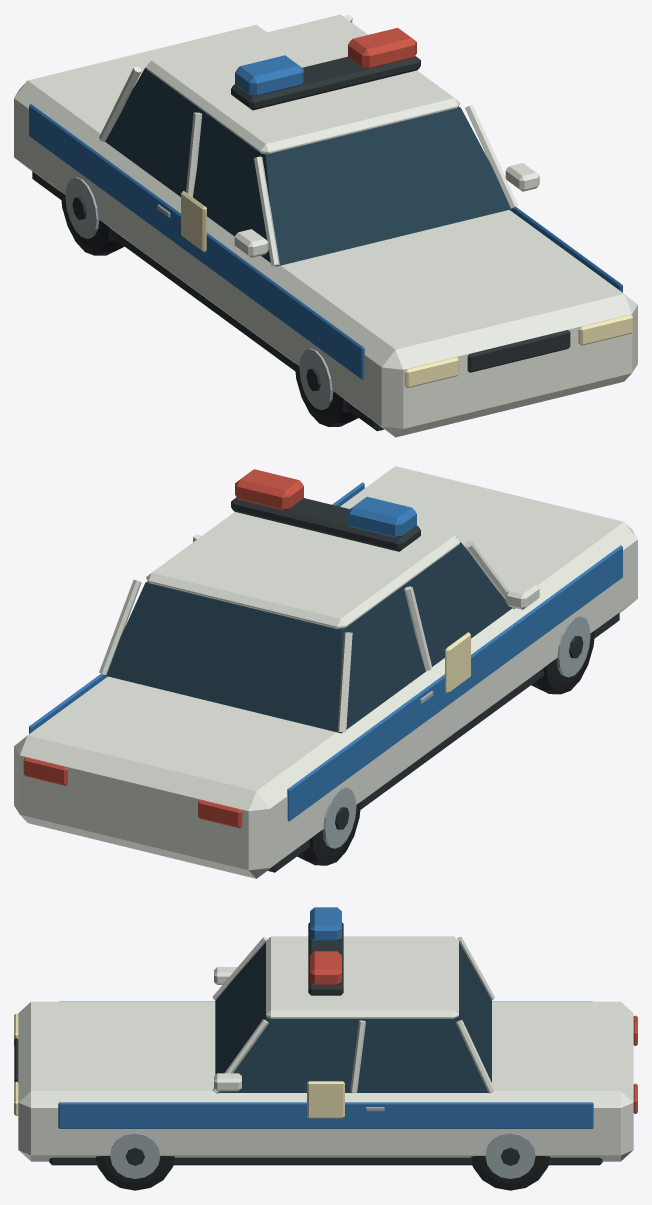
Rendered from police-car-01.glb.
3 renders of one model, top to bottom at view 1: azimuth 30°, elevation 25°; view 2: azimuth 150°, elevation 25°; view 3: azimuth 270°, elevation 25°, orthographic. The views are drawn at different scales.
Parts seen in each view (by area): view 1: Body, Glass, Roof, PoliceBlueBand, LightbarBase, Sill, EmergencyLight, EmergencyLight.001, FrontGrille, Rim_RR, Rim_FR, PoliceShield (+11 smaller); view 2: Body, Glass, Roof, PoliceBlueBand, LightbarBase, Sill, EmergencyLight, EmergencyLight.001, Rim_RR, Rim_FR, PoliceShield, Tyre_FR (+9 smaller); view 3: Body, Glass, Roof, PoliceBlueBand.001, Sill, Rim_RL, Rim_FL, PoliceShield.001, Tyre_FL, Tyre_RL, EmergencyLight.001, EmergencyLight (+6 smaller).
Boxes of the visible parts, x1,y1,x2,y2 form: Body: (14,24,637,437); Glass: (105,67,513,266); Roof: (146,14,459,154); PoliceBlueBand: (29,104,364,379); LightbarBase: (231,56,420,110); Sill: (32,171,384,431); EmergencyLight: (235,55,303,96); EmergencyLight.001: (348,27,416,68); FrontGrille: (467,330,570,372); Rim_RR: (65,177,99,238); Rim_FR: (299,348,333,409); PoliceShield: (181,191,206,252); Body: (14,466,637,878); Glass: (103,542,511,733); Roof: (146,512,459,628); PoliceBlueBand: (287,545,622,821); LightbarBase: (231,497,420,551); Sill: (268,613,619,872); EmergencyLight: (348,496,416,537); EmergencyLight.001: (235,469,303,510); Rim_RR: (322,787,356,848); Rim_FR: (556,616,590,677); PoliceShield: (445,632,470,693); Tyre_FR: (531,630,595,694); Body: (18,1001,633,1161); Glass: (215,942,491,1092); Roof: (266,936,458,1018); PoliceBlueBand.001: (58,1102,593,1128); Sill: (49,1157,602,1165); Rim_RL: (485,1133,535,1178); Rim_FL: (110,1133,160,1178); PoliceShield.001: (307,1081,344,1118); Tyre_FL: (96,1156,174,1190); Tyre_RL: (471,1156,549,1190); EmergencyLight.001: (310,951,341,984); EmergencyLight: (310,907,341,940).
Size of the model in its own units: 2.13 by 1.79 by 4.92.
